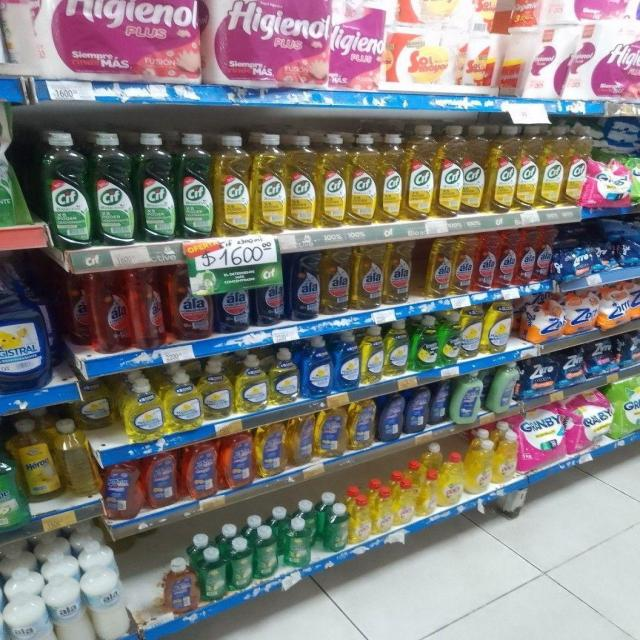ala_conc_amarillo: (352, 242, 383, 310), (322, 246, 351, 316), (384, 240, 412, 306), (426, 235, 452, 299), (452, 233, 474, 295)
ala_conc_azul: (214, 262, 250, 334), (287, 250, 320, 322), (253, 255, 285, 327)
ala_conc_rojo: (86, 263, 130, 354), (166, 260, 212, 342), (128, 261, 165, 350), (475, 231, 497, 292), (496, 229, 516, 289), (518, 227, 536, 286), (536, 226, 554, 282)
ala_crem_blanco: (87, 562, 130, 640), (8, 572, 53, 640), (51, 563, 88, 640)
cif_conc_bot_amarilla: (215, 132, 250, 236), (252, 133, 286, 234), (404, 125, 435, 221), (318, 133, 347, 228), (348, 133, 377, 226), (288, 134, 316, 230), (488, 124, 516, 214), (437, 124, 462, 218), (378, 133, 403, 224), (540, 124, 565, 208), (463, 124, 486, 215), (517, 124, 539, 211), (566, 124, 587, 207)
cif_conc_botella_verde: (41, 130, 90, 249), (92, 132, 134, 246), (136, 132, 176, 242), (177, 132, 213, 239)
magistral_con_amarillo: (122, 378, 164, 441), (166, 370, 201, 432), (234, 354, 268, 413), (75, 380, 114, 430), (202, 359, 233, 420), (269, 347, 299, 405), (483, 301, 512, 354), (361, 325, 384, 384), (385, 320, 408, 377), (461, 304, 482, 358)
magistral_con_azul: (0, 257, 50, 394), (301, 336, 332, 398), (334, 330, 359, 392)
